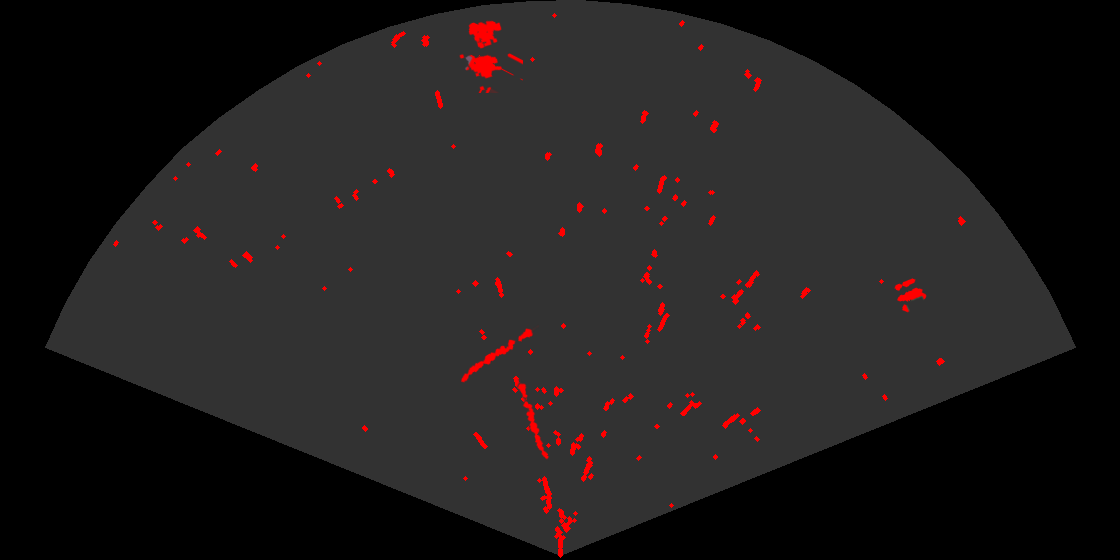ball: (893, 277, 928, 314)
cage: (458, 19, 523, 93)
chain: (459, 324, 539, 384), (516, 379, 550, 461)
